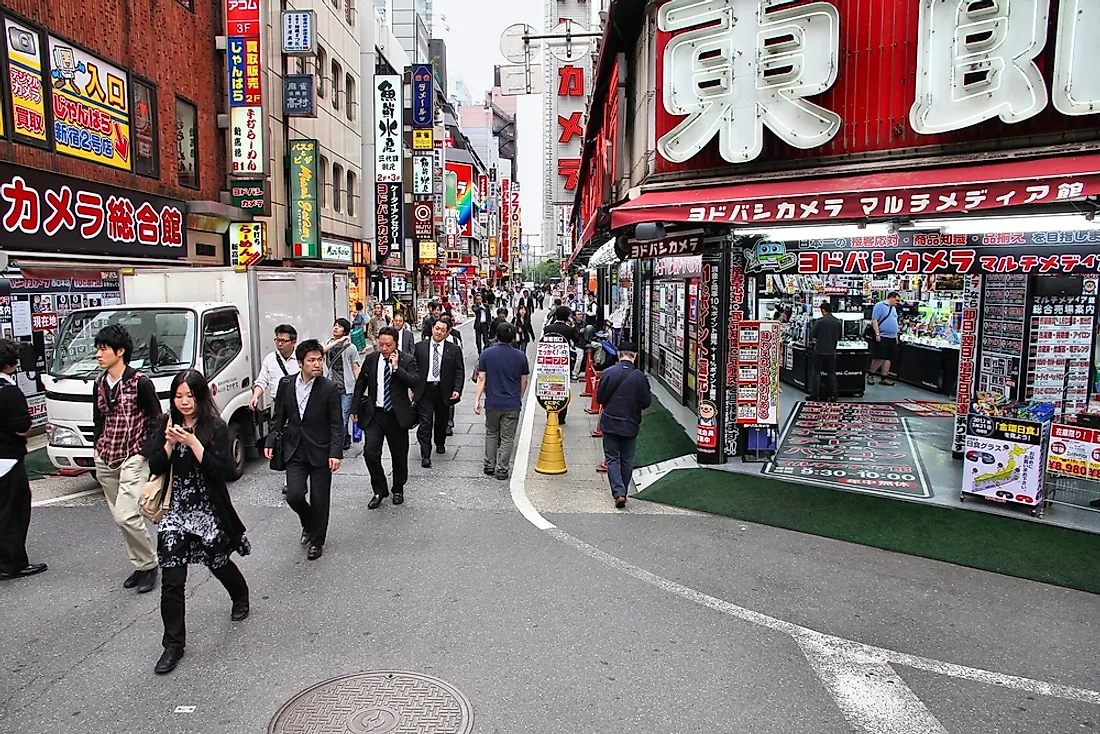person: (150, 366, 253, 681), (260, 341, 349, 568), (92, 323, 164, 599), (348, 324, 423, 512), (590, 337, 657, 512), (1, 334, 47, 588), (469, 322, 531, 484), (412, 315, 467, 476), (470, 291, 494, 359), (512, 285, 540, 319)
